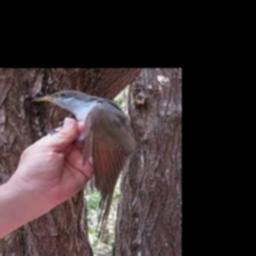Cuckoo: (33, 90, 136, 241)
